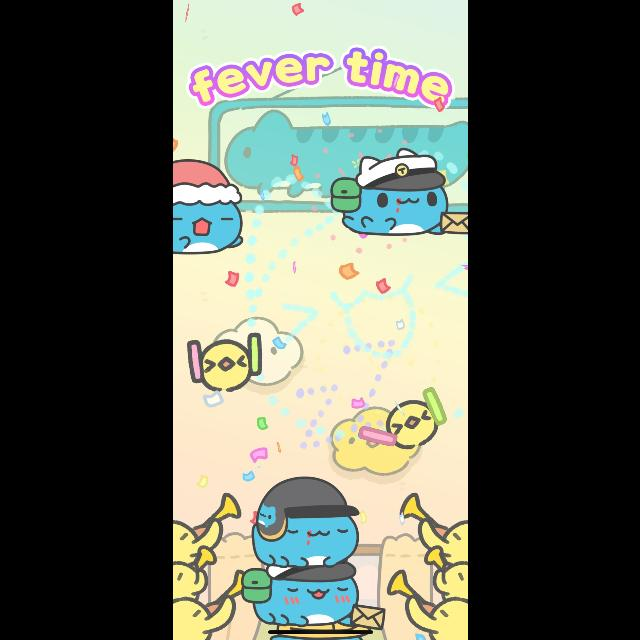capoo: (329, 150, 467, 242), (248, 472, 370, 568), (244, 562, 392, 628), (172, 156, 244, 254)
